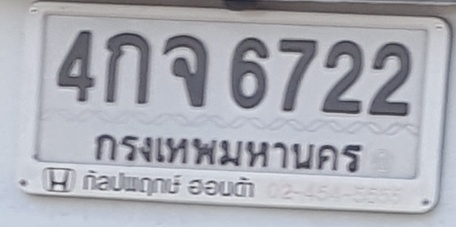num4: (55, 29, 96, 105)
txt01: (101, 31, 152, 107)
txt06: (161, 32, 210, 110)
